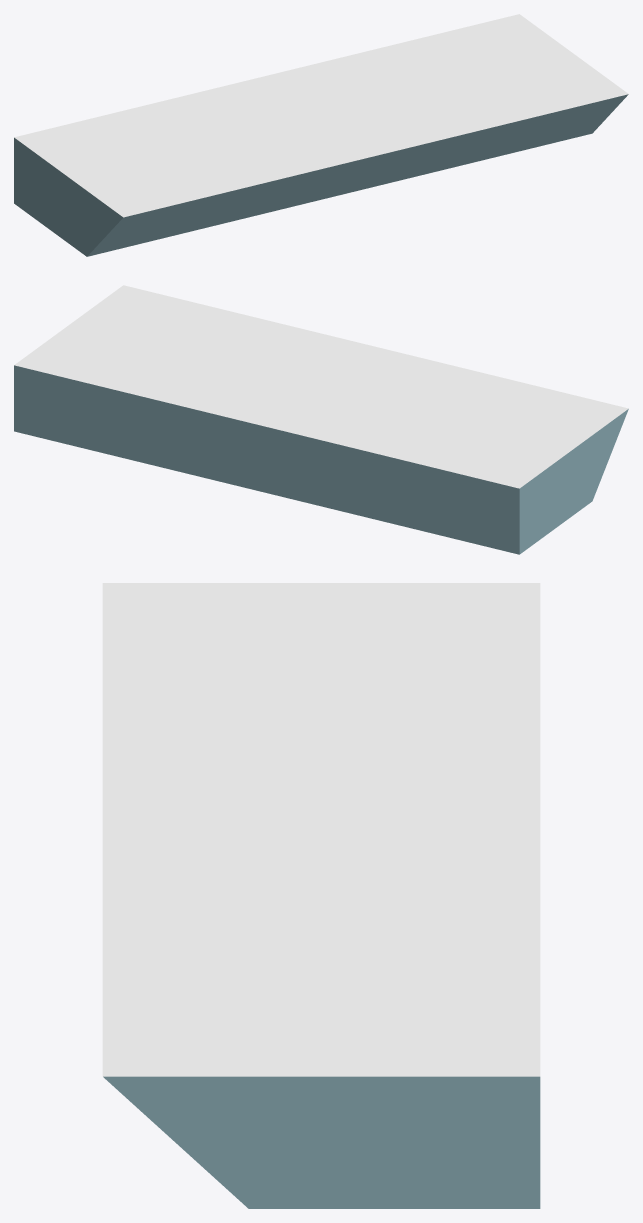
The model's file is Terrain_Tile_Ice_Snow_Ledge_02.fbx.
The picture shows the model from 3 angles, top to bottom: view 1: azimuth 30°, elevation 25°; view 2: azimuth 150°, elevation 25°; view 3: azimuth 270°, elevation 25°; orthographic projection. The views are drawn at different scales.
Visible parts, largest first — view 1: Terrain_Tile_Ice_Snow_Ledge_02; view 2: Terrain_Tile_Ice_Snow_Ledge_02; view 3: Terrain_Tile_Ice_Snow_Ledge_02.
Part boxes in pixels (x1,y1,x2,y2): Terrain_Tile_Ice_Snow_Ledge_02: (14, 14, 628, 256); Terrain_Tile_Ice_Snow_Ledge_02: (14, 285, 628, 554); Terrain_Tile_Ice_Snow_Ledge_02: (102, 583, 540, 1208).
Bounding box in the file's own units: 126 × 15.75 × 47.24.
